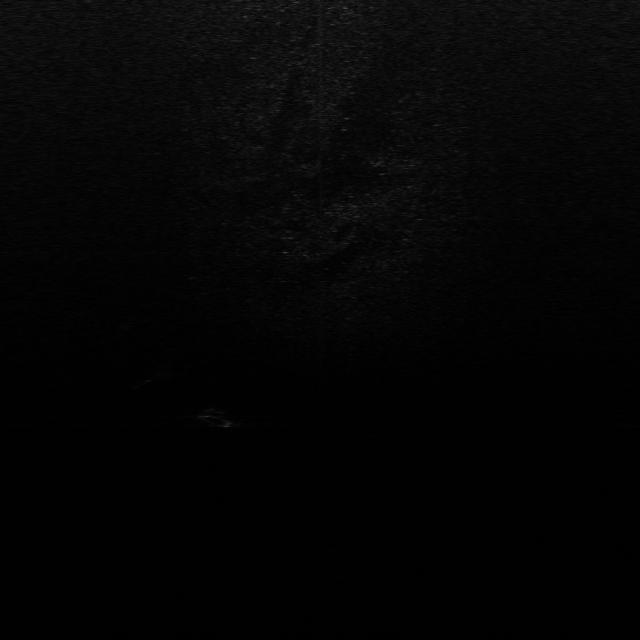ball: (152, 362, 179, 380)
circle cage: (118, 314, 141, 331)
tyre: (194, 406, 236, 428)
